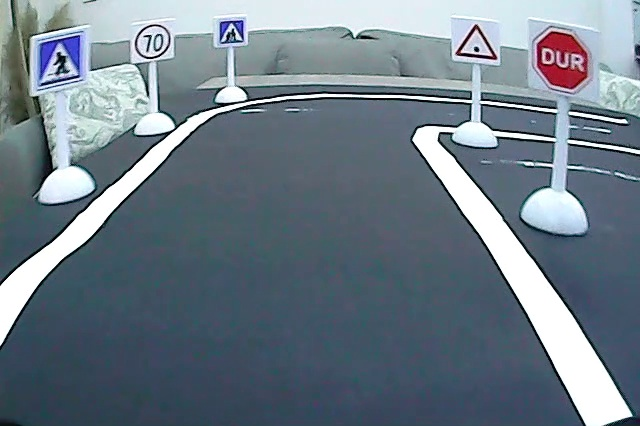green light: (453, 20, 498, 64)
pedestrian crossing: (32, 31, 87, 92)
school crossing: (217, 18, 246, 46)
speed limit 70: (134, 22, 172, 61)
stop sign: (530, 25, 594, 96)
